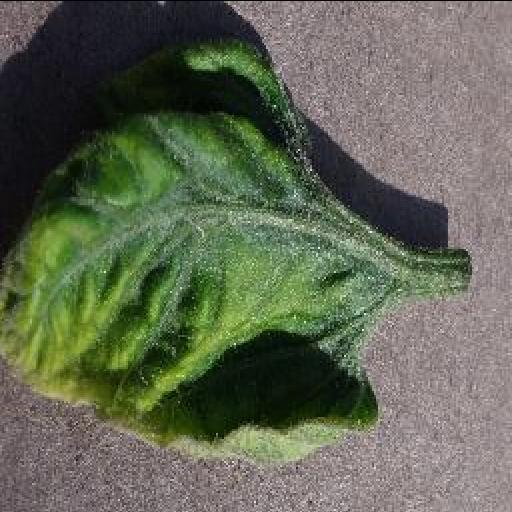disease_tomato: (0, 36, 381, 464)
